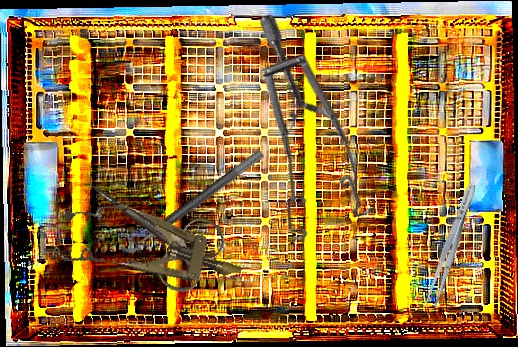Dressing Forceps: (422, 181, 481, 309)
Fixation Ring: (112, 137, 266, 258)
Iris Scissors: (66, 149, 232, 301)
Speculum: (164, 10, 423, 269), (50, 190, 250, 306)
